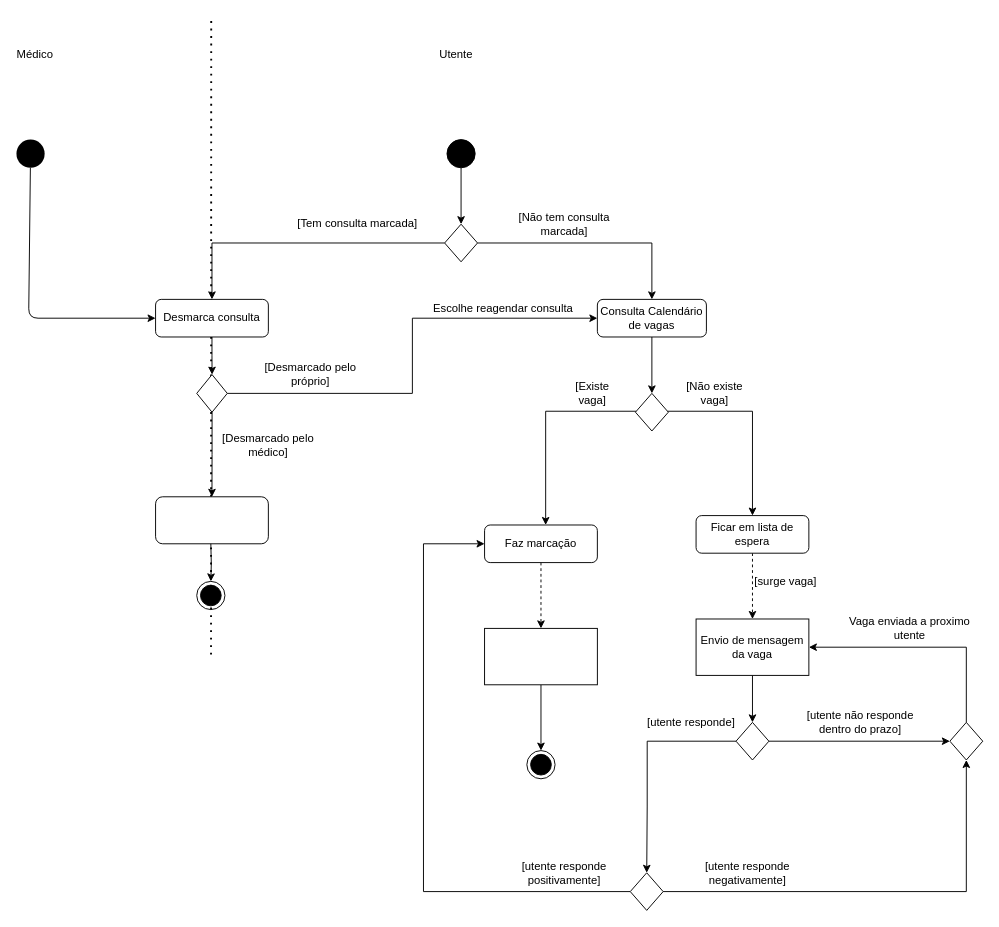
Image size: 999x927. Some labels were removed from this diagram. The centre of each missing label's shape, as x and y in pixels:
"Paciente aguarda novo agendamento" goes at pixel 211 520.
"Vaga removida do calendário" goes at pixel 540 656.
